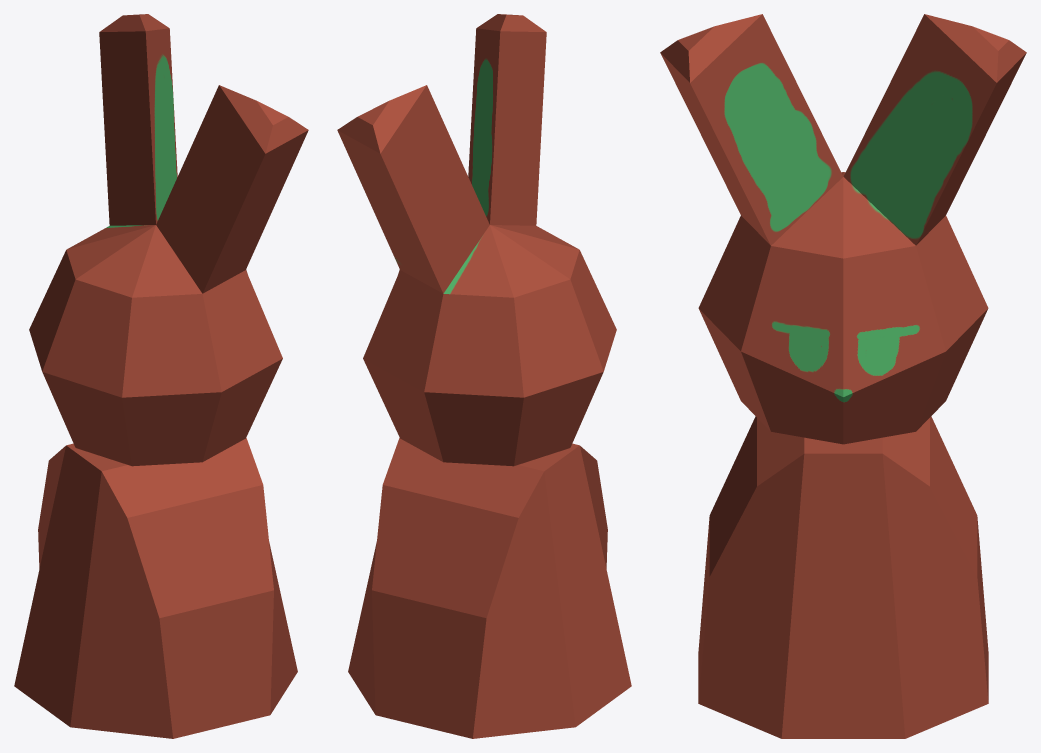
The model's file is bunavatar.fbx.
3 renders of one model, left to right at view 1: azimuth 30°, elevation 25°; view 2: azimuth 150°, elevation 25°; view 3: azimuth 270°, elevation 25°, orthographic. The views are drawn at different scales.
Visible parts, largest first — view 1: HEAD, BODY; view 2: HEAD, BODY; view 3: HEAD, BODY.
Boxes of the visible parts, x1,y1,x2,y2 form: HEAD: (29,14,308,466); BODY: (14,437,297,738); HEAD: (337,14,616,466); BODY: (348,437,631,738); HEAD: (660,14,1026,444); BODY: (698,416,988,738).
Bounding box in the file's own units: 200 × 516 × 253.
Materials: 2 (2 with a texture image).
